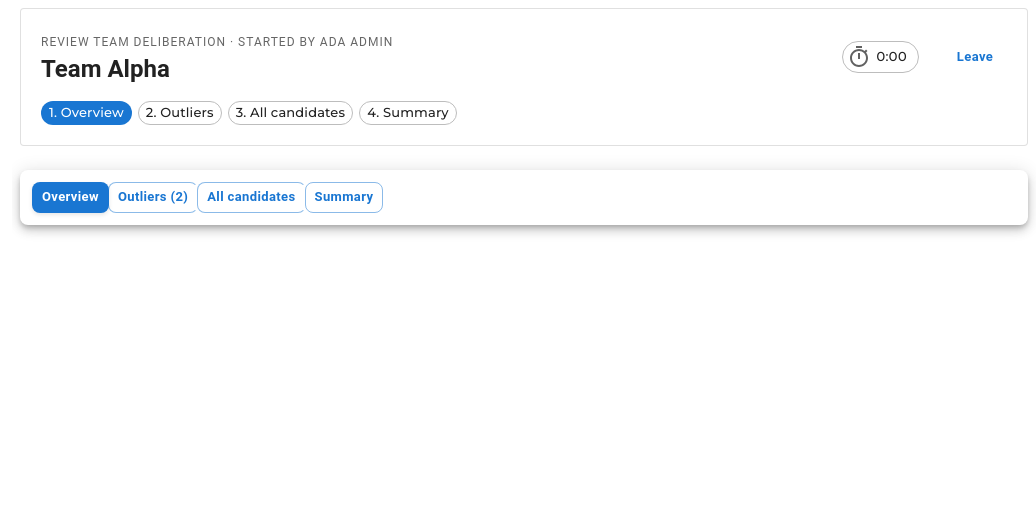
ReviewDelib: every viewer moves on their own › opens on the overview and gives a member the steps, previous and next
This screenshot has width=1036, height=515.
Step 1. Click the button "Outliers (2)" → [153, 197], box [108,182,198,213]
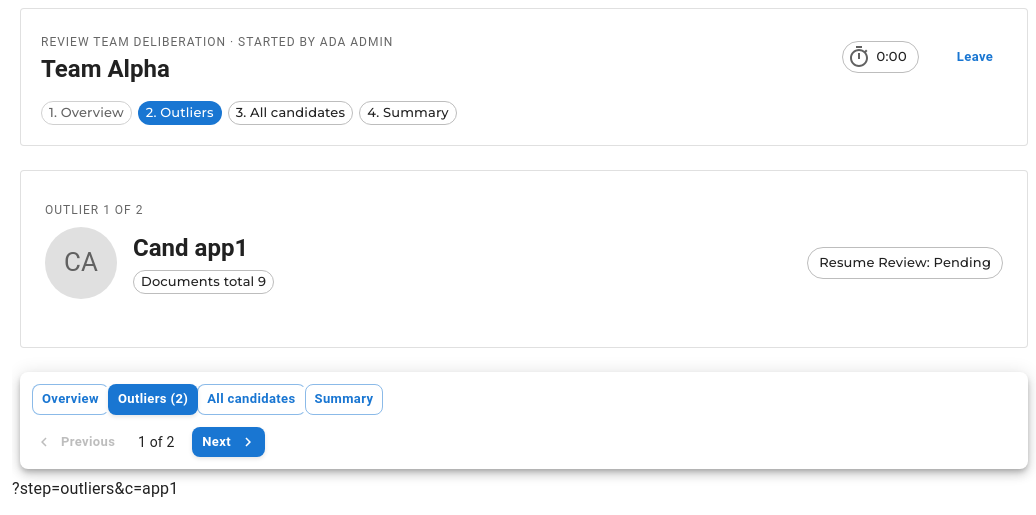
Result: the text "Outlier 1 of 2" is shown at [45,203,144,217]
Step 2. Click the button "Next" → [229, 442], box [192,427,265,458]
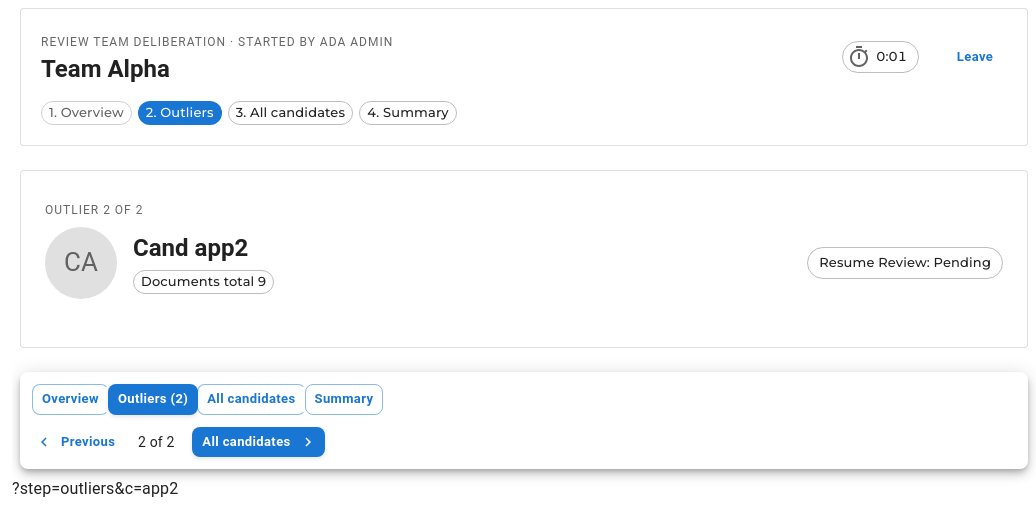
Result: the text "Outlier 2 of 2" is shown at [45,203,144,217]
Result: the text with test id "where" reads "?step=outliers&c=app2" at [12,479,178,498]
